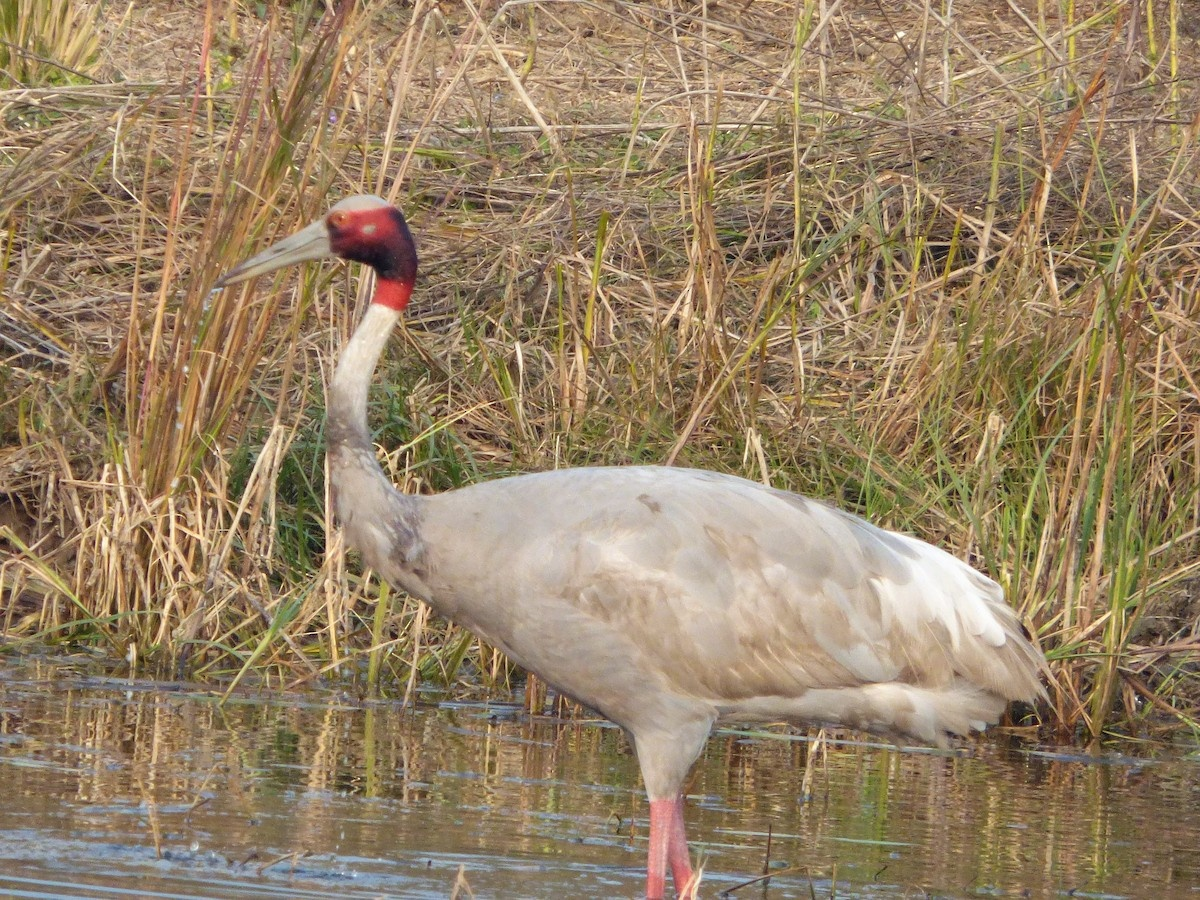crane: (233, 190, 1043, 880)
